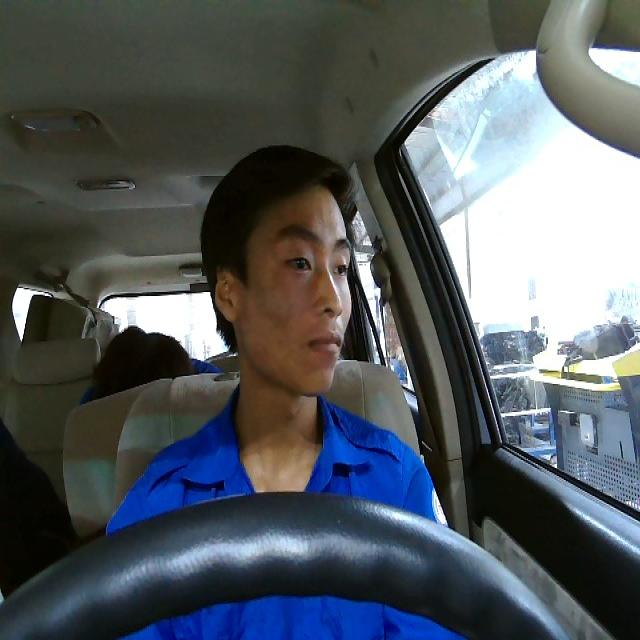seeing_right: (213, 182, 352, 398)
